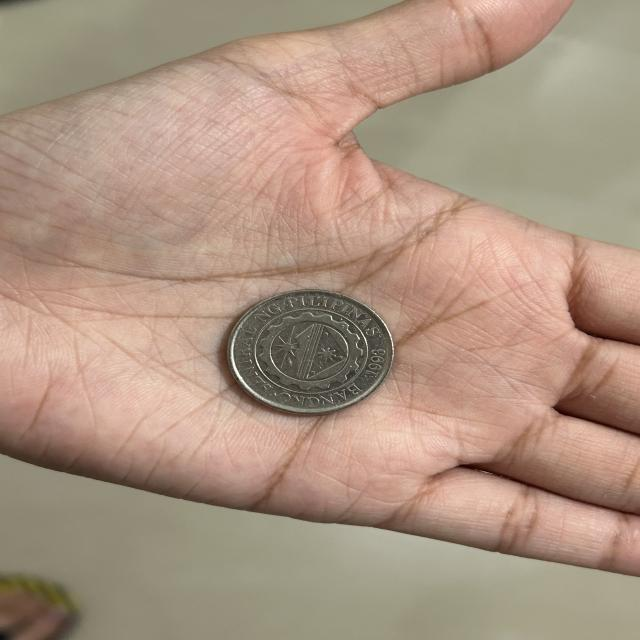1_Old_Back: (245, 305, 369, 397)
